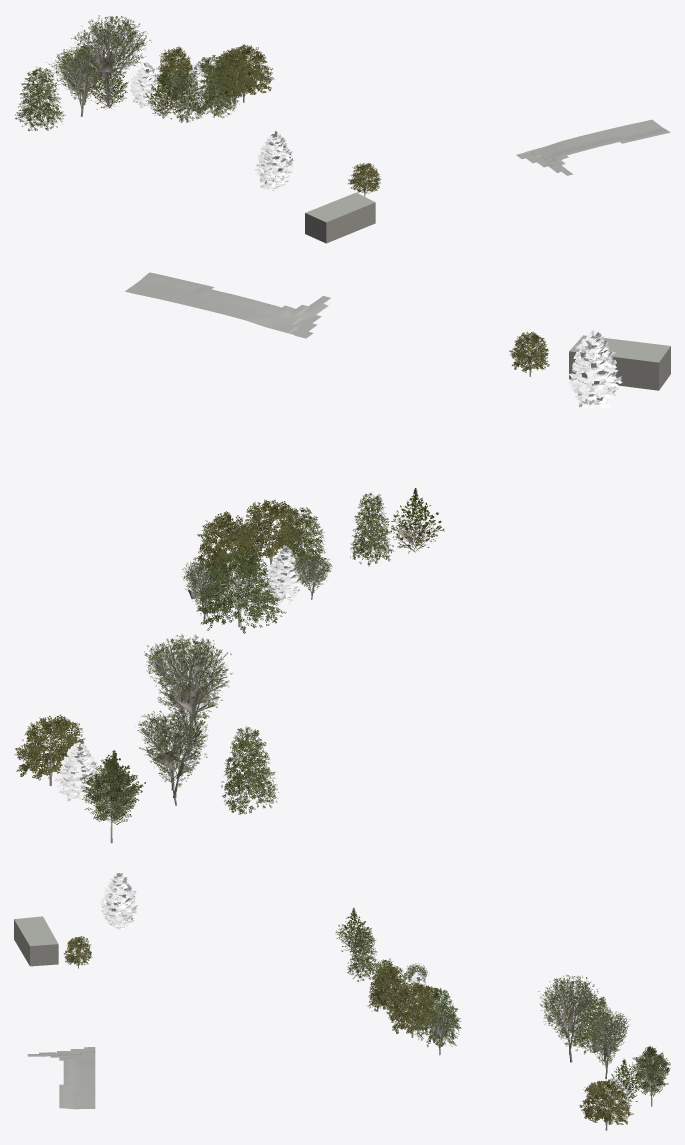
3 views of the same model, one above another, from view 1: azimuth 30°, elevation 25°; view 2: azimuth 150°, elevation 25°; view 3: azimuth 270°, elevation 25° (orthographic). The views are drawn at different scales.
Parts seen in each view (by area): view 1: NT_PinOak_0151, NT_PinOak_0307, NT_RedMaple_0341, NT_PinOak_0331, MH LiDAR edge apron north of Annex (feather; UNVERIFIED), NT_PinOak_0313, bldg 232853526, bldg 232853526 roof, NT_LondonPlane_0336, NT_LondonPlane_0309; view 2: NT_PinOak_0151, NT_RedMaple_0341, NT_PinOak_0307, NT_PinOak_0331, MH LiDAR edge apron north of Annex (feather; UNVERIFIED), NT_LondonPlane_0336, NT_LondonPlane_0309, NT_PinOak_0313, bldg 232853526, bldg 232853526 roof; view 3: NT_RedMaple_0341, NT_PinOak_0151, NT_PinOak_0307, MH LiDAR edge apron north of Annex (feather; UNVERIFIED), NT_PinOak_0331, NT_LondonPlane_0309, NT_LondonPlane_0336, NT_PinOak_0313, bldg 232853526, bldg 232853526 roof.
Part boxes in pixels (x1,y1,x2,y2): NT_PinOak_0151: [46, 15, 246, 116]; NT_PinOak_0307: [15, 60, 239, 131]; NT_RedMaple_0341: [155, 44, 381, 196]; NT_PinOak_0331: [130, 62, 293, 192]; MH LiDAR edge apron north of Annex (feather; UNVERIFIED): [516, 119, 670, 175]; NT_PinOak_0313: [87, 70, 184, 119]; bldg 232853526: [305, 202, 375, 243]; bldg 232853526 roof: [305, 192, 375, 222]; NT_LondonPlane_0336: [187, 55, 238, 119]; NT_LondonPlane_0309: [61, 44, 102, 102]; NT_PinOak_0151: [137, 553, 332, 805]; NT_RedMaple_0341: [14, 331, 549, 785]; NT_PinOak_0307: [221, 492, 394, 814]; NT_PinOak_0331: [54, 330, 622, 801]; MH LiDAR edge apron north of Annex (feather; UNVERIFIED): [125, 272, 330, 338]; NT_LondonPlane_0336: [196, 550, 286, 633]; NT_LondonPlane_0309: [82, 754, 143, 843]; NT_PinOak_0313: [82, 488, 444, 814]; bldg 232853526: [569, 346, 670, 390]; bldg 232853526 roof: [569, 335, 670, 362]; NT_RedMaple_0341: [63, 936, 633, 1130]; NT_PinOak_0151: [406, 963, 630, 1078]; NT_PinOak_0307: [347, 926, 615, 1054]; MH LiDAR edge apron north of Annex (feather; UNVERIFIED): [27, 1047, 95, 1109]; NT_PinOak_0331: [100, 872, 630, 1121]; NT_LondonPlane_0309: [630, 1046, 670, 1106]; NT_LondonPlane_0336: [411, 986, 461, 1046]; NT_PinOak_0313: [335, 907, 642, 1103]; bldg 232853526: [14, 919, 58, 966]; bldg 232853526 roof: [14, 916, 58, 945].
Bounding box in the file's own units: 94.41 × 47.53 × 146.
17 materials, 6 textured.
